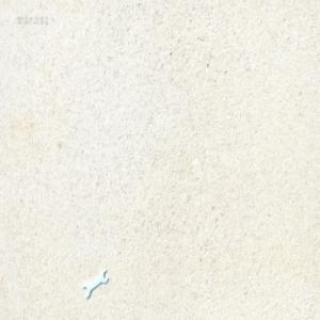Wrenchtrack_idkeyframe: (81, 268, 108, 298)
